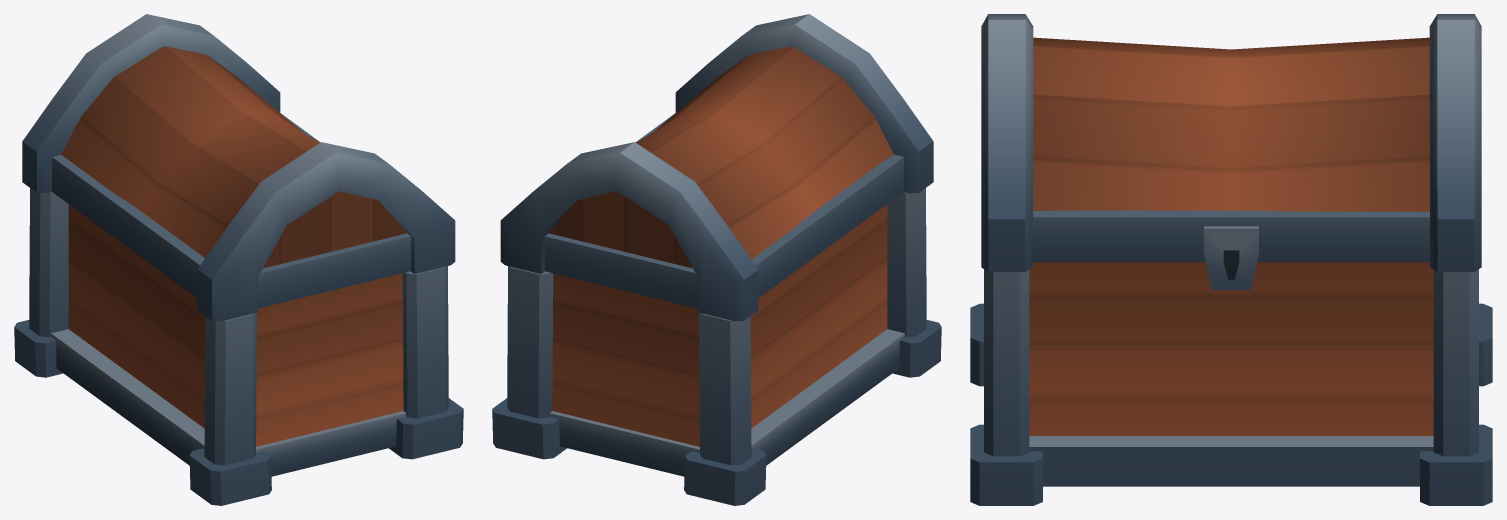
The model's file is Treasure.fbx.
The picture shows the model from 3 angles, left to right: view 1: azimuth 30°, elevation 25°; view 2: azimuth 150°, elevation 25°; view 3: azimuth 270°, elevation 25°; orthographic projection. The views are drawn at different scales.
Visible parts, largest first — view 1: Treasure, Treasure_lid; view 2: Treasure, Treasure_lid; view 3: Treasure, Treasure_lid.
Boxes of the visible parts, x1,y1,x2,y2 form: Treasure: (14, 188, 463, 505); Treasure_lid: (22, 14, 455, 321); Treasure: (492, 188, 941, 505); Treasure_lid: (500, 14, 933, 321); Treasure: (970, 262, 1492, 505); Treasure_lid: (981, 14, 1481, 289).
Size of the model in its own units: 0.4853 by 0.583 by 0.6757.
1 material, 1 textured.
